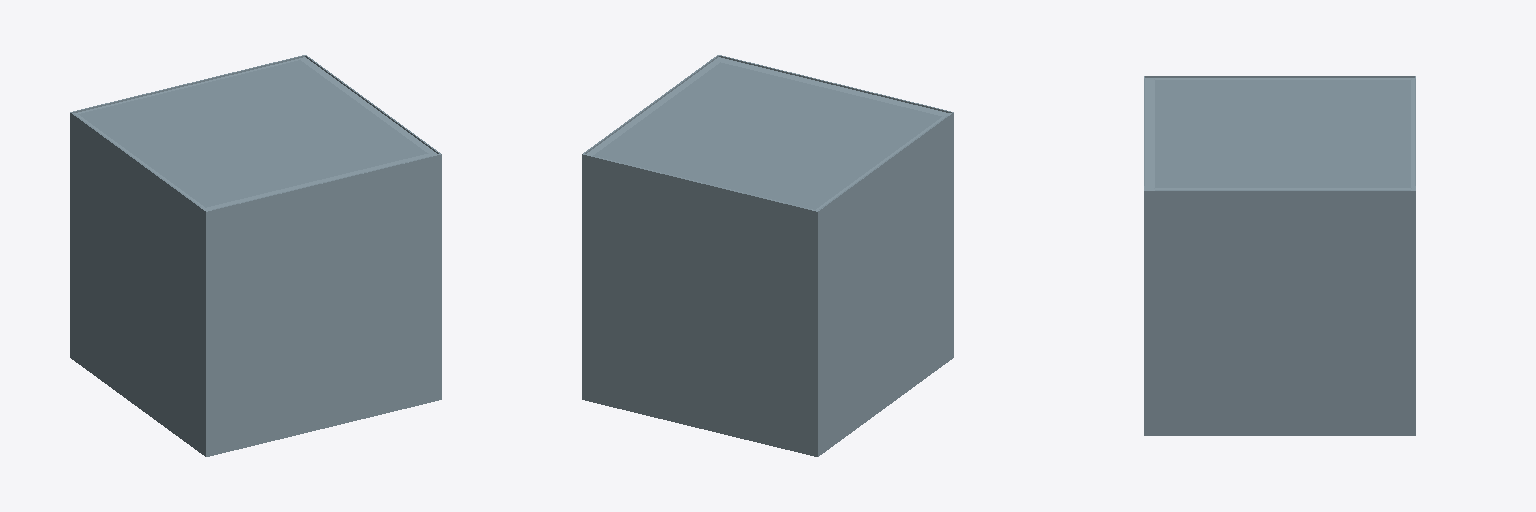
The picture shows the model from 3 angles: view 1: azimuth 30°, elevation 25°; view 2: azimuth 150°, elevation 25°; view 3: azimuth 270°, elevation 25°; orthographic projection.
Visible parts, largest first — view 1: 立方体.004_立方体.005; view 2: 立方体.004_立方体.005; view 3: 立方体.004_立方体.005.
Boxes of the visible parts, x1=… form: 立方体.004_立方体.005: x1=70, y1=55, x2=441, y2=456; 立方体.004_立方体.005: x1=582, y1=55, x2=953, y2=456; 立方体.004_立方体.005: x1=1144, y1=76, x2=1415, y2=435.
Bounding box in the file's own units: 50.6 × 50.3 × 50.6.
Materials: 1 (1 with a texture image).